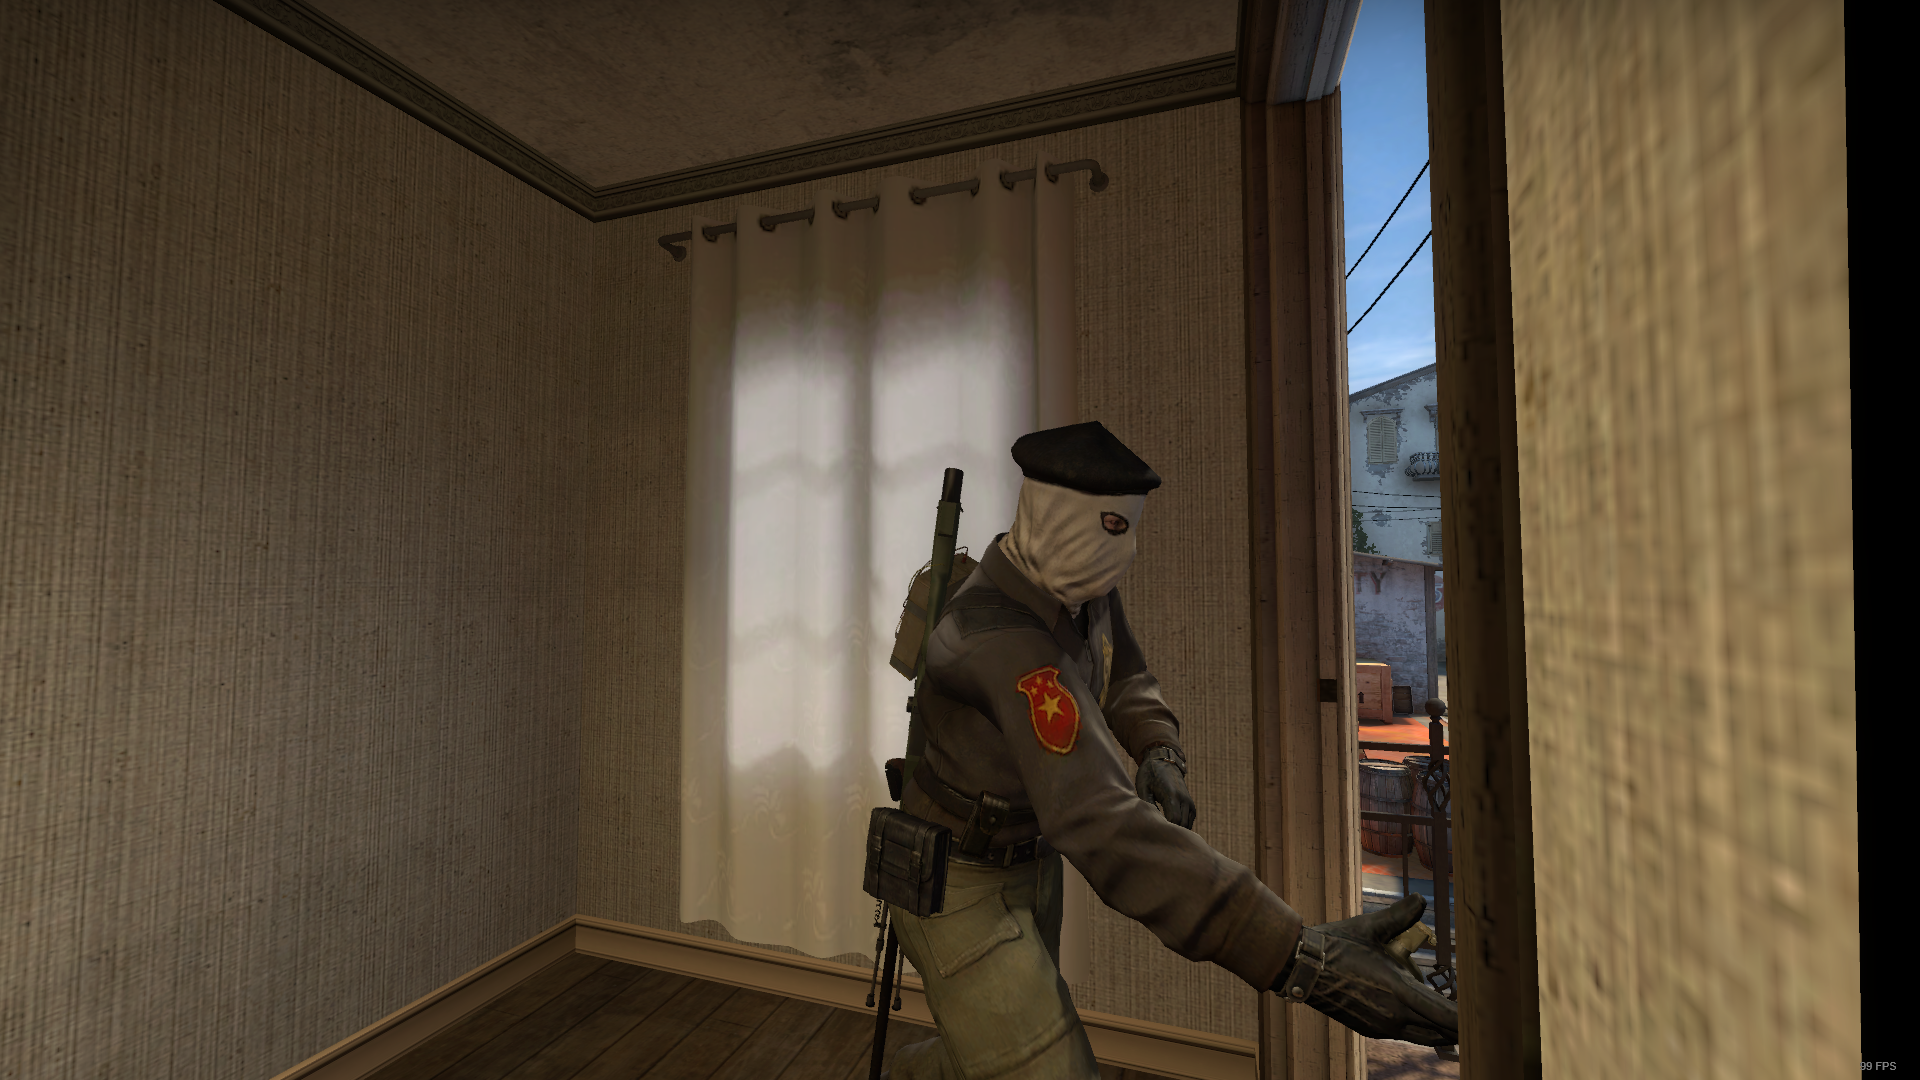t: (865, 423, 1455, 1080)
